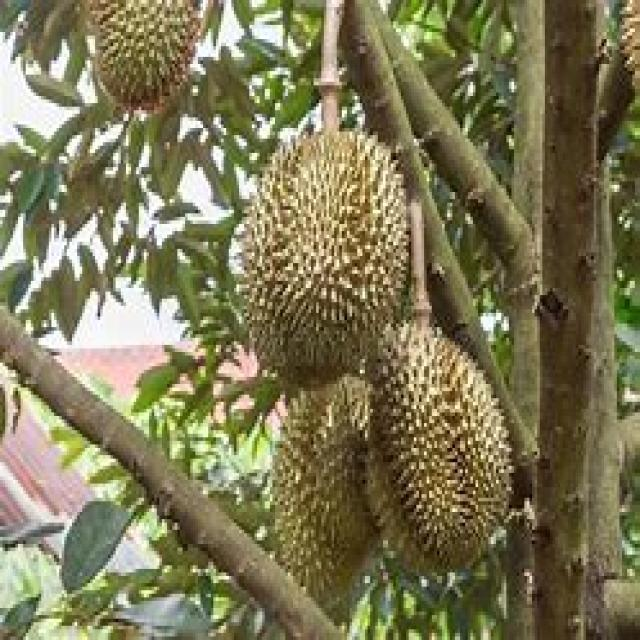mature: (242, 133, 409, 385), (370, 323, 511, 571)
